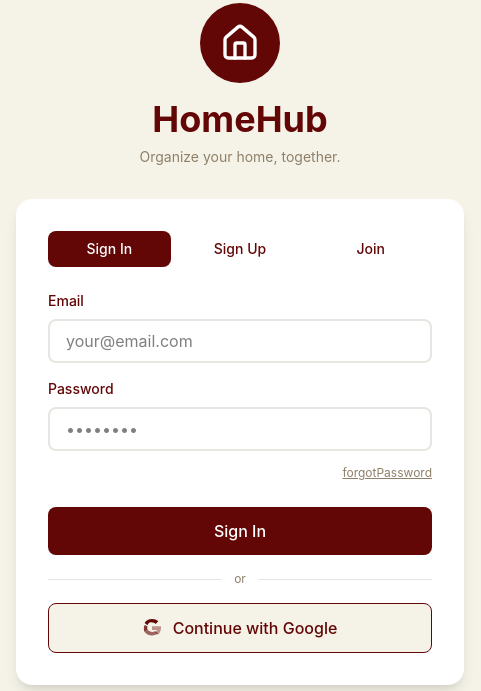
Test: AuthScreen — English (en) › renders "Join Household" button when Join tab is active
Step 1. Click the button "Join" → (371, 249), box [309,231,432,267]
(page scrolled)
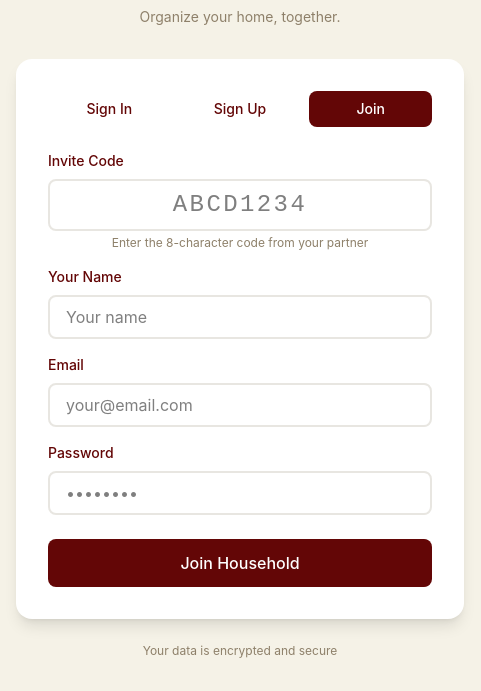
Expected: the button "Join Household" is shown, [48,539,432,587]
